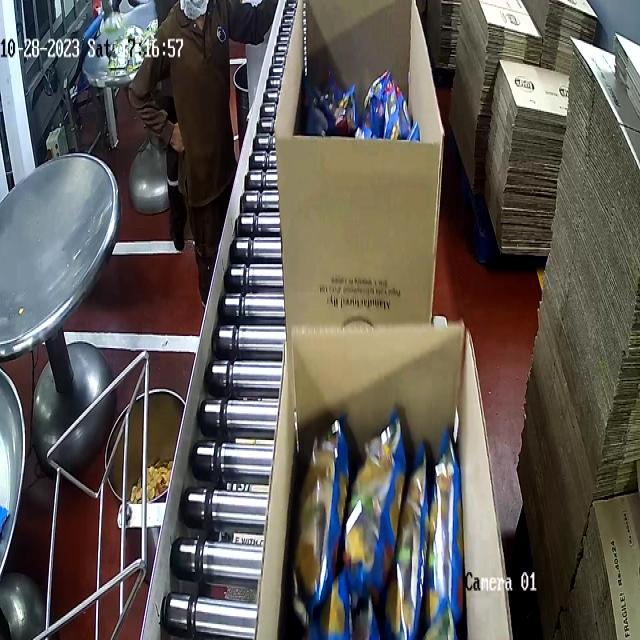PAPRIKA: (291, 412, 464, 640), (303, 72, 416, 144)
